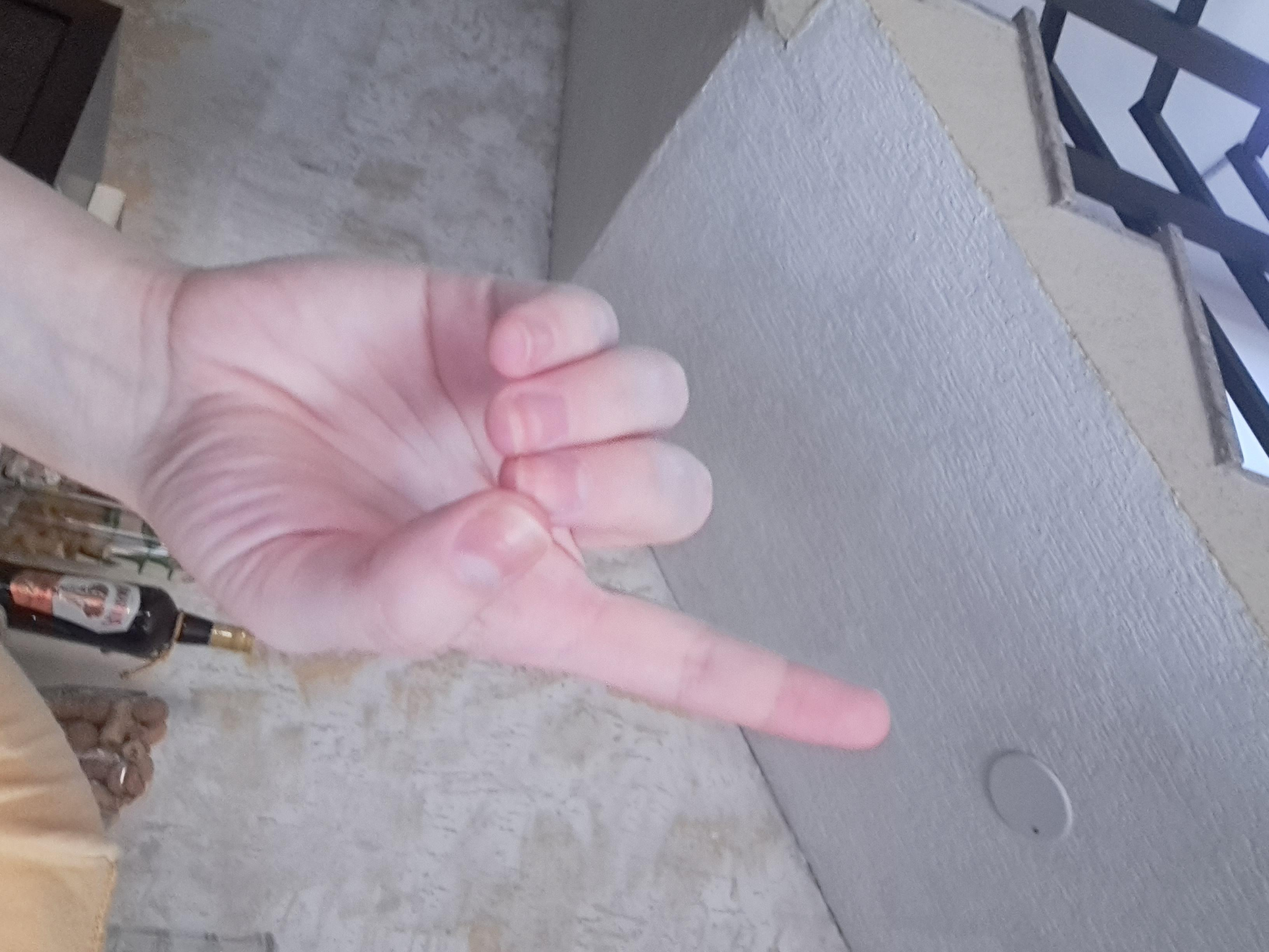D2: (285, 271, 1006, 872)
